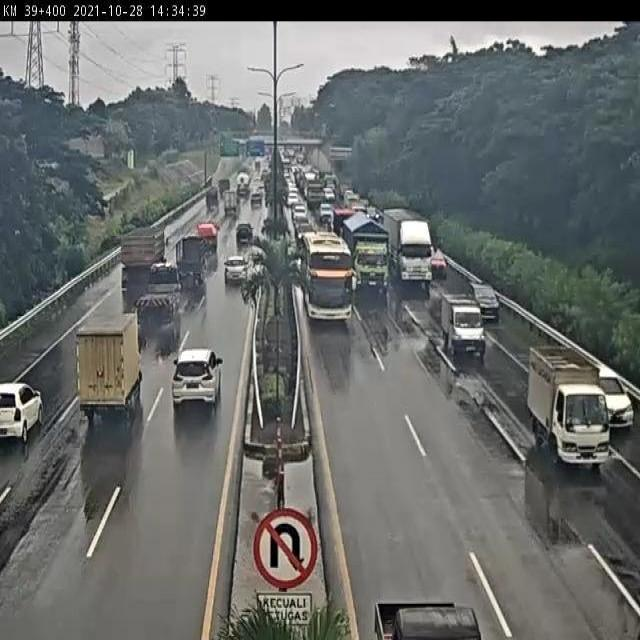big bus: (301, 233, 361, 332)
big truck: (116, 219, 170, 296), (392, 214, 434, 294), (351, 219, 392, 300)
car: (170, 336, 228, 423), (439, 280, 491, 376), (0, 380, 48, 457), (469, 278, 505, 322), (221, 253, 251, 288)
small truck: (525, 340, 617, 481), (78, 310, 150, 434), (139, 255, 188, 321)
